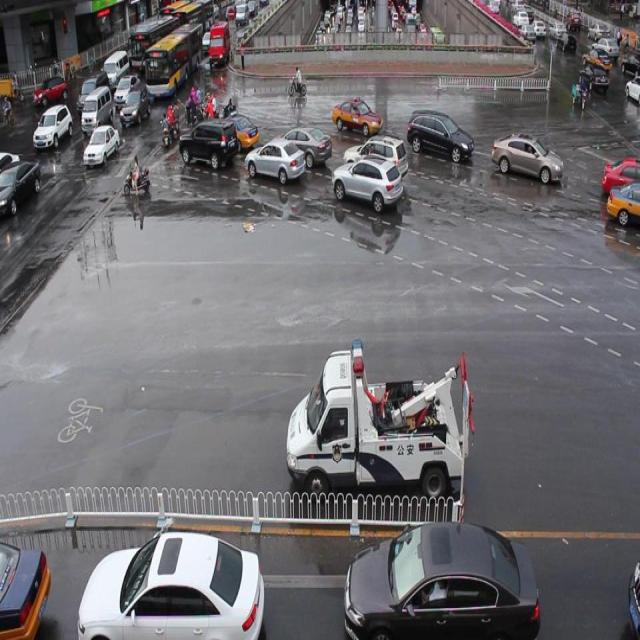bus: (285, 338, 464, 498)
car: (490, 129, 562, 186), (332, 156, 401, 214), (406, 106, 472, 164), (342, 132, 407, 180), (266, 123, 332, 169), (244, 137, 305, 183), (331, 95, 382, 137), (604, 179, 640, 230), (213, 114, 259, 152), (600, 159, 640, 199)
truck: (179, 118, 237, 168)
